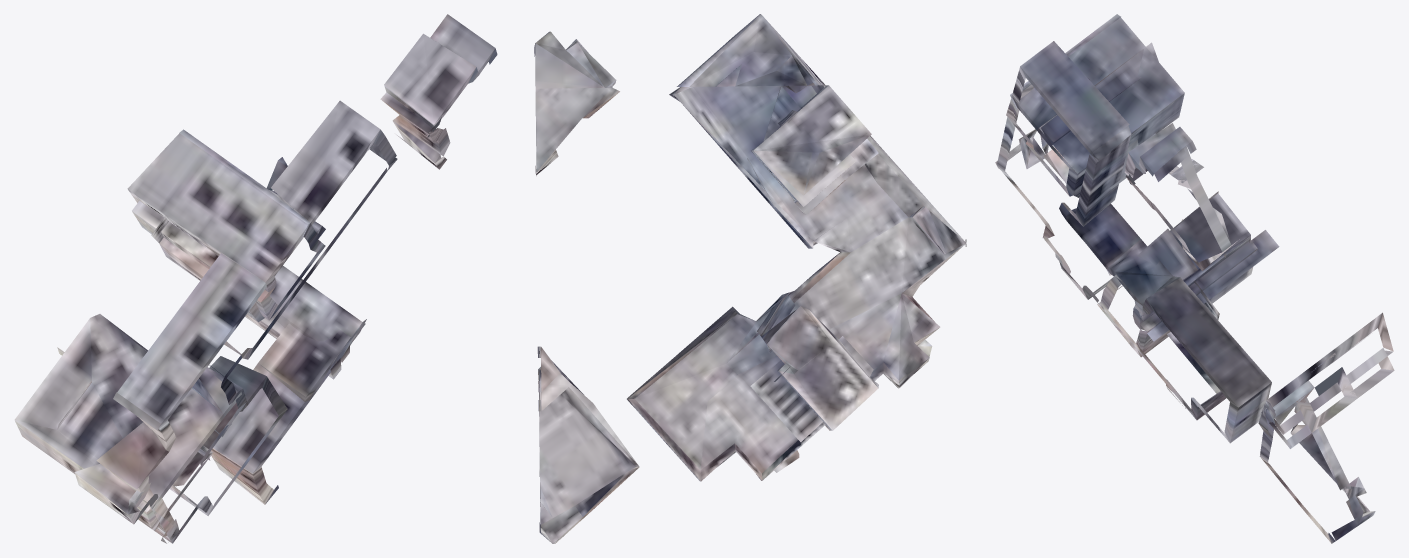
3 renders of one model, left to right at view 1: azimuth 30°, elevation 25°; view 2: azimuth 150°, elevation 25°; view 3: azimuth 270°, elevation 25°, orthographic. The views are drawn at different scales.
Size of the model in its own units: 34.99 by 40.09 by 31.1.
1 material, 1 textured.
